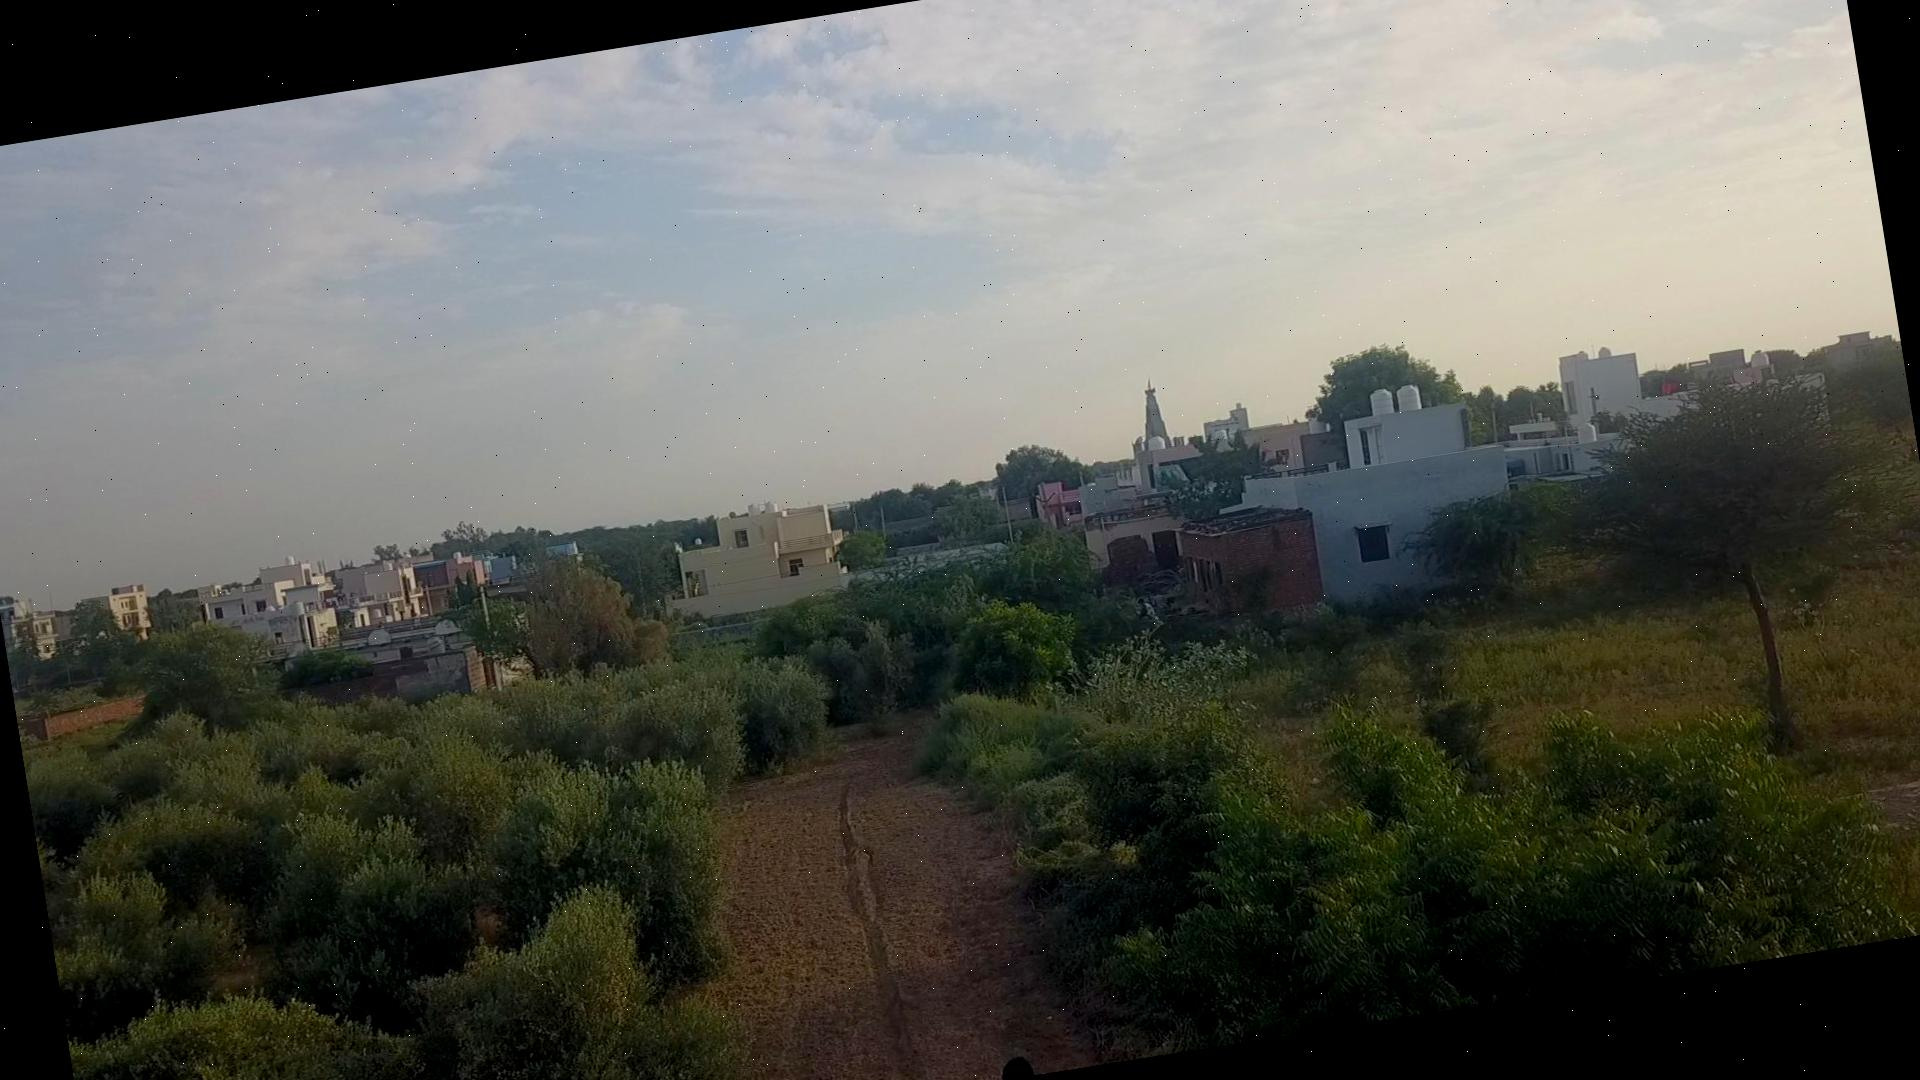canopy: (927, 599, 1920, 1044), (22, 659, 744, 1080)
road: (713, 719, 1097, 1080)
